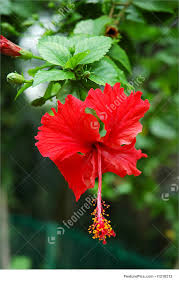hybiscus: (33, 84, 150, 244)
